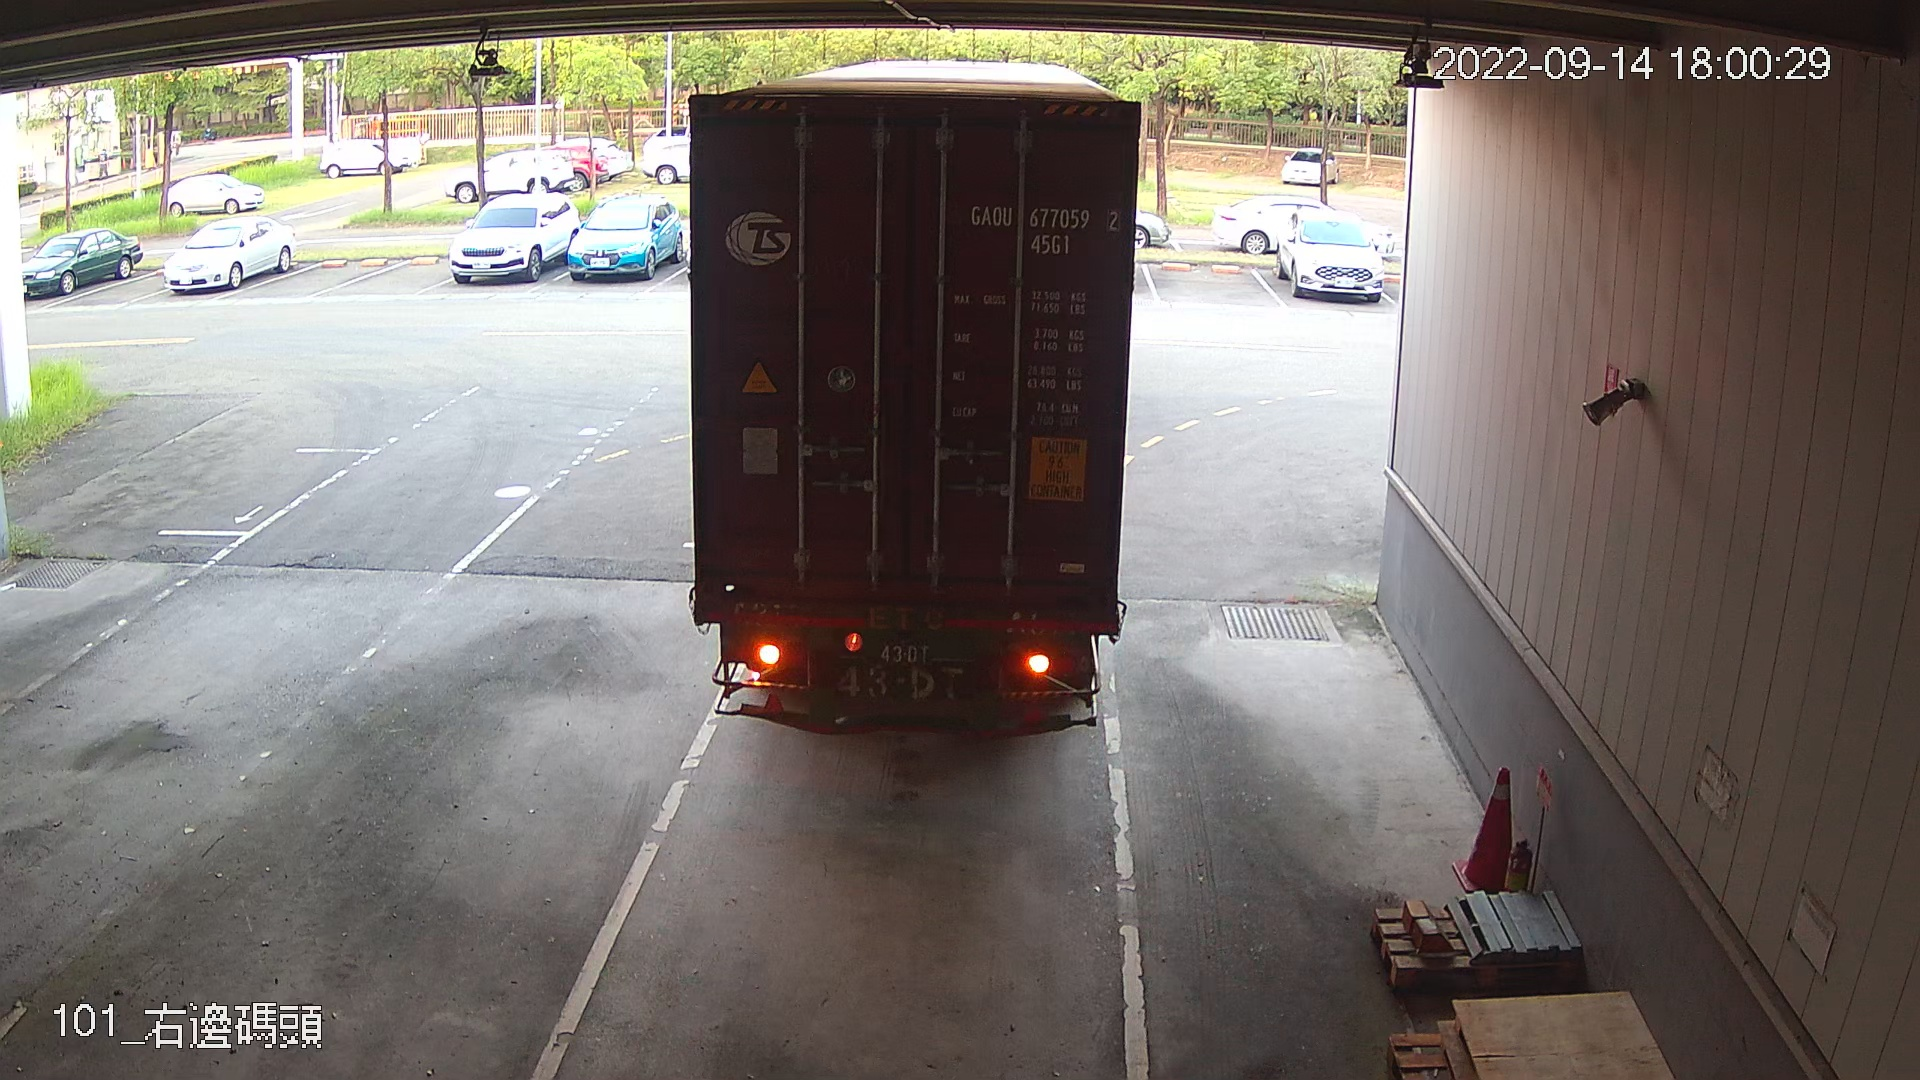container: (957, 193, 1126, 260)
